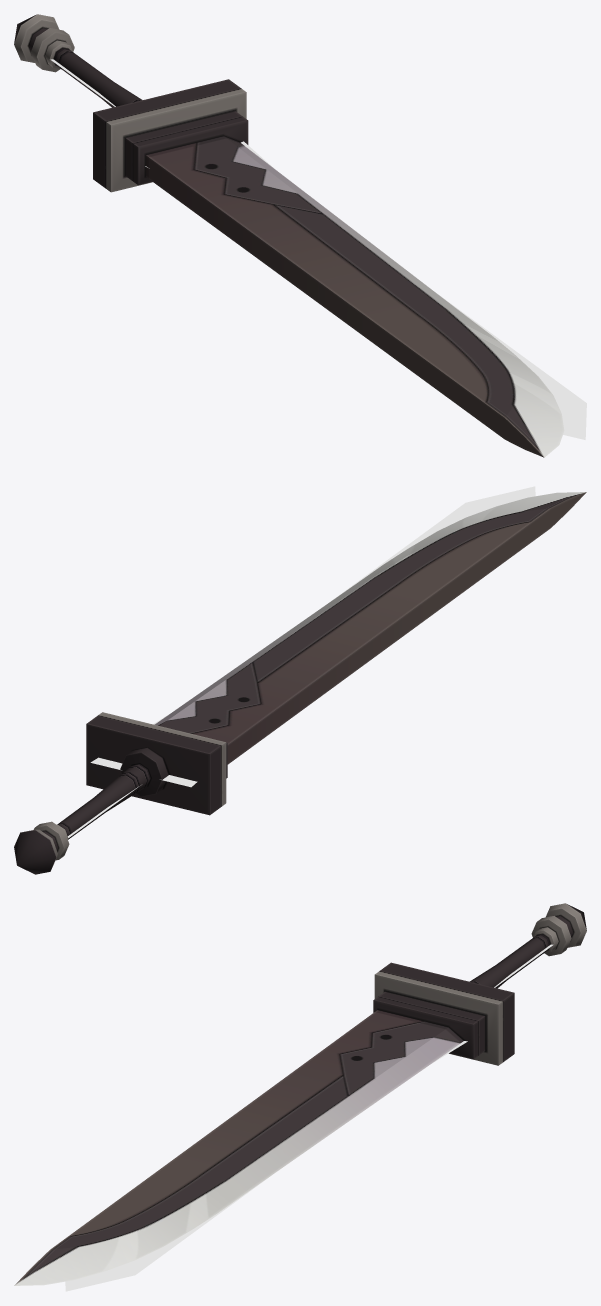
Rendered from Equip_Claymore_Oyaji.fbx.
3 renders of one model, top to bottom at view 1: azimuth 30°, elevation 25°; view 2: azimuth 150°, elevation 25°; view 3: azimuth 330°, elevation 25°, orthographic. The views are drawn at different scales.
Visible parts, largest first — view 1: Equip_Claymore_Oyaji_Model, Equip_Claymore_Oyaji_Effect; view 2: Equip_Claymore_Oyaji_Model, Equip_Claymore_Oyaji_Effect; view 3: Equip_Claymore_Oyaji_Model, Equip_Claymore_Oyaji_Effect.
Part boxes in pixels (x1=…): Equip_Claymore_Oyaji_Model: x1=14, y1=14, x2=564, y2=457; Equip_Claymore_Oyaji_Effect: x1=50, y1=59, x2=586, y2=439; Equip_Claymore_Oyaji_Model: x1=14, y1=492, x2=586, y2=874; Equip_Claymore_Oyaji_Effect: x1=68, y1=486, x2=535, y2=837; Equip_Claymore_Oyaji_Model: x1=14, y1=903, x2=586, y2=1285; Equip_Claymore_Oyaji_Effect: x1=65, y1=944, x2=553, y2=1291.
Bounding box in the file's own units: 0.2326 × 0.1098 × 1.71.
2 materials, 1 textured.
